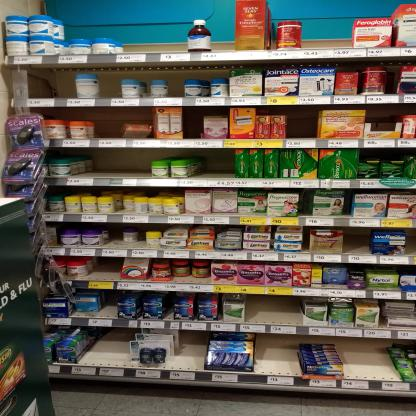Void: (125, 0, 186, 51), (303, 1, 351, 46), (64, 0, 118, 39), (347, 339, 396, 377), (29, 66, 76, 96), (92, 329, 130, 365), (93, 148, 147, 173), (260, 336, 292, 371), (252, 299, 300, 322), (200, 150, 238, 176), (285, 105, 314, 139), (93, 105, 122, 137), (90, 260, 126, 284), (182, 329, 204, 366), (346, 226, 369, 255), (98, 68, 119, 99), (173, 64, 184, 100)
